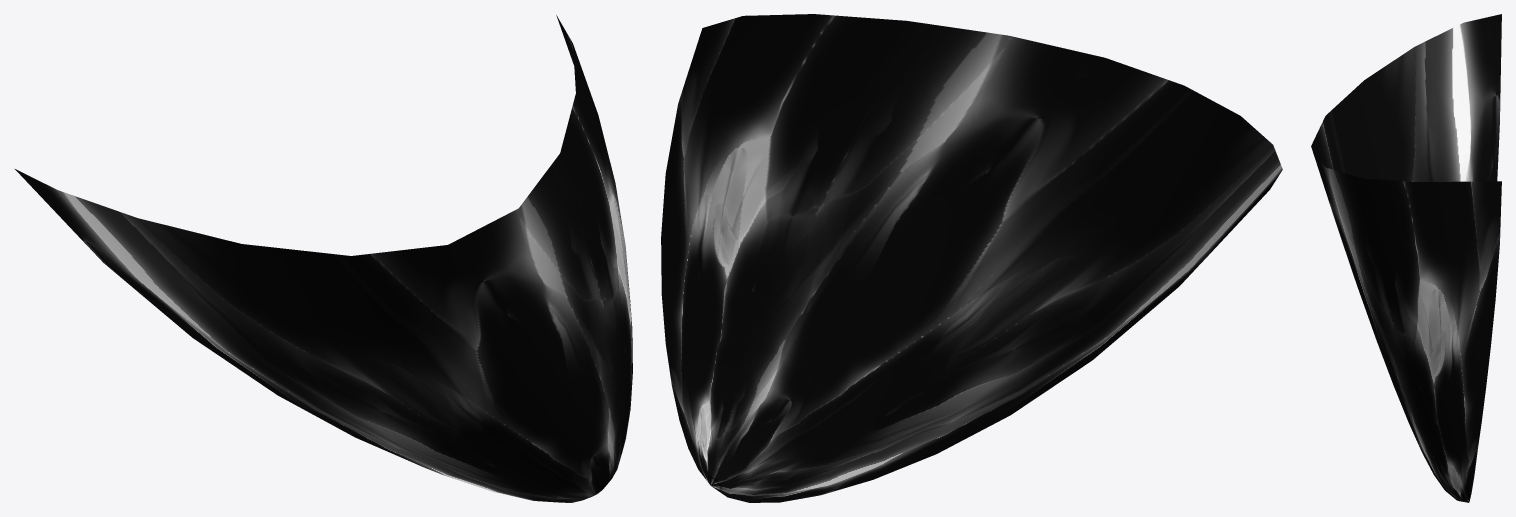
Rendered from yuanzhao.FBX.
3 views of the same model, side by side, from view 1: azimuth 30°, elevation 25°; view 2: azimuth 150°, elevation 25°; view 3: azimuth 270°, elevation 25° (orthographic). The views are drawn at different scales.
Visible parts, largest first — view 1: Plane002; view 2: Plane002; view 3: Plane002.
Boxes of the visible parts, x1,y1,x2,y2 form: Plane002: (15, 15, 632, 502); Plane002: (661, 14, 1282, 502); Plane002: (1311, 14, 1501, 502).
Bounding box in the file's own units: 81.8 × 61.39 × 33.1.
